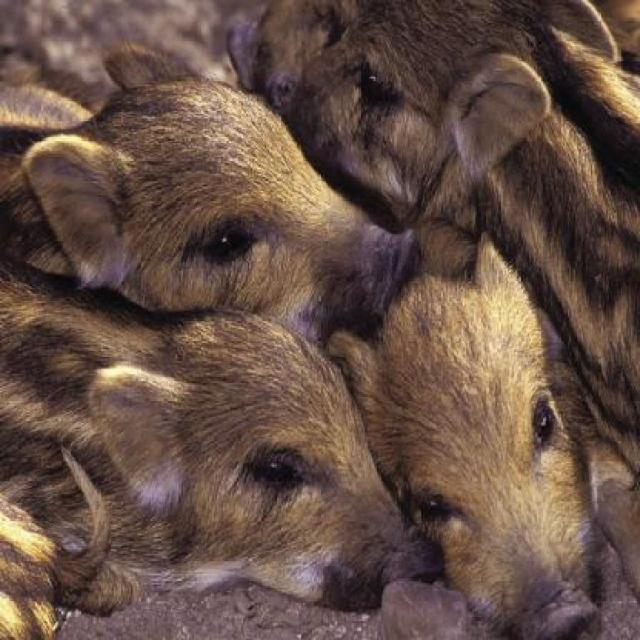wildboar: (0, 280, 414, 640), (0, 31, 418, 360), (326, 234, 606, 640), (221, 0, 639, 248), (481, 168, 640, 639)
